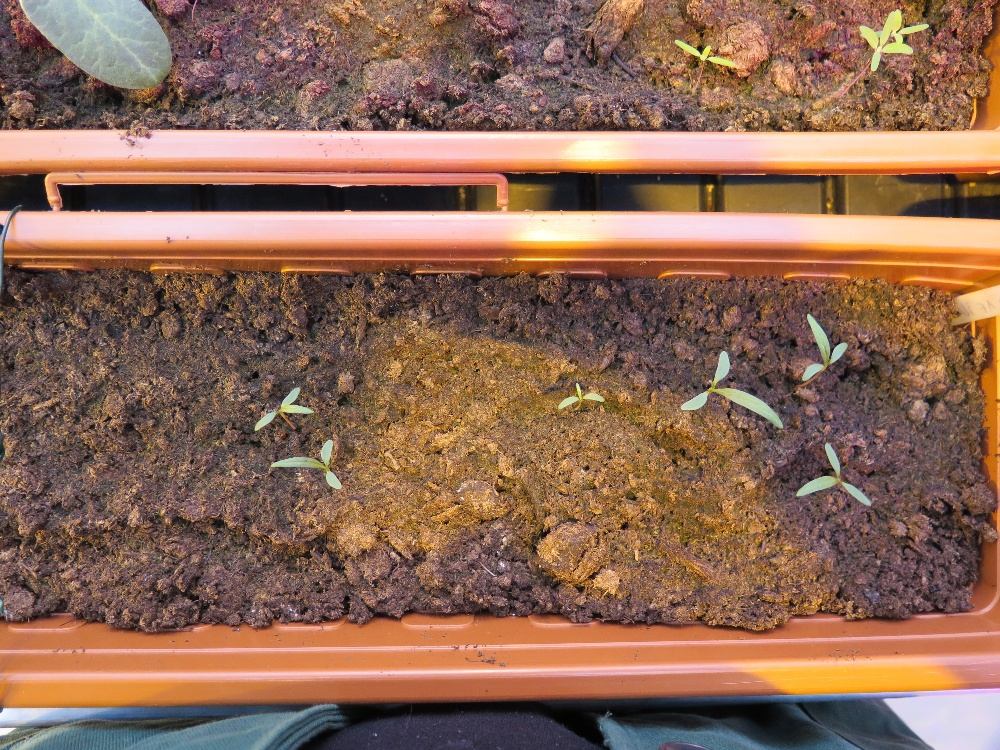weed: (666, 329, 793, 445), (775, 424, 898, 520), (843, 6, 948, 99), (273, 429, 357, 504), (659, 26, 748, 81), (246, 379, 316, 442), (552, 367, 612, 431), (789, 322, 846, 381)
